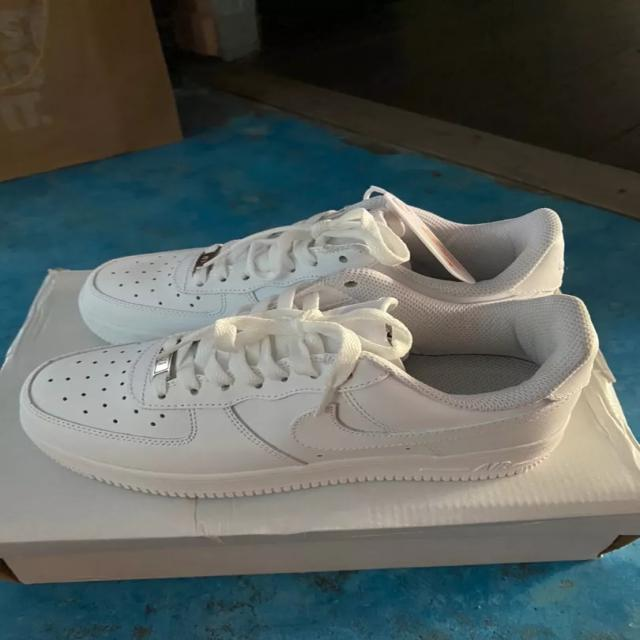nike original air force: (18, 268, 600, 502), (11, 193, 586, 364)
